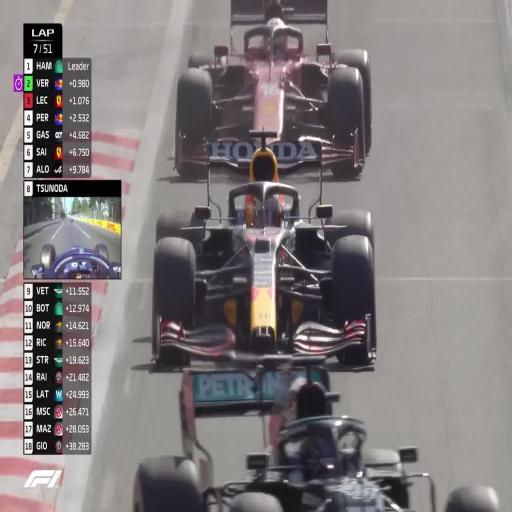f1_car: (152, 132, 376, 366), (133, 357, 436, 511), (175, 0, 371, 178), (31, 244, 121, 278), (445, 485, 499, 511), (276, 154, 304, 170), (288, 142, 298, 145), (209, 144, 211, 149), (234, 357, 236, 358), (320, 363, 321, 364)
